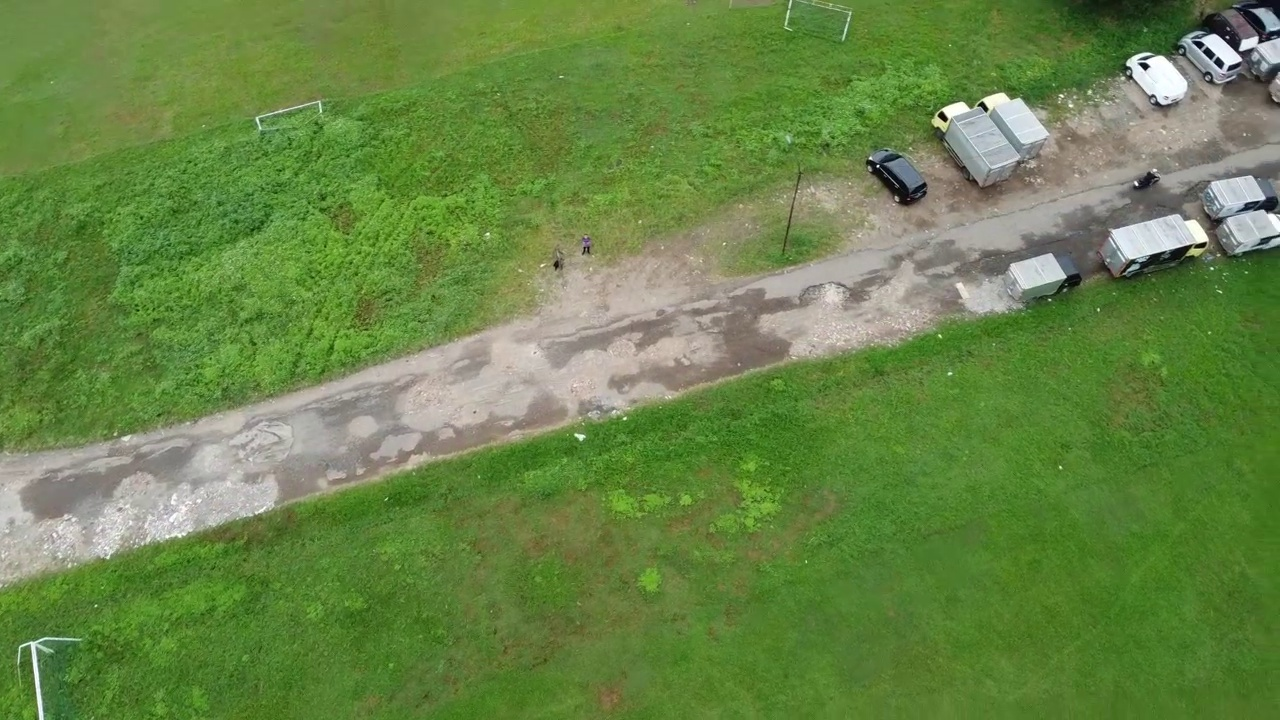mobil: (860, 139, 939, 220), (1172, 32, 1245, 86), (1124, 53, 1190, 111), (1206, 5, 1258, 53), (1238, 1, 1280, 37), (1253, 40, 1279, 86)
